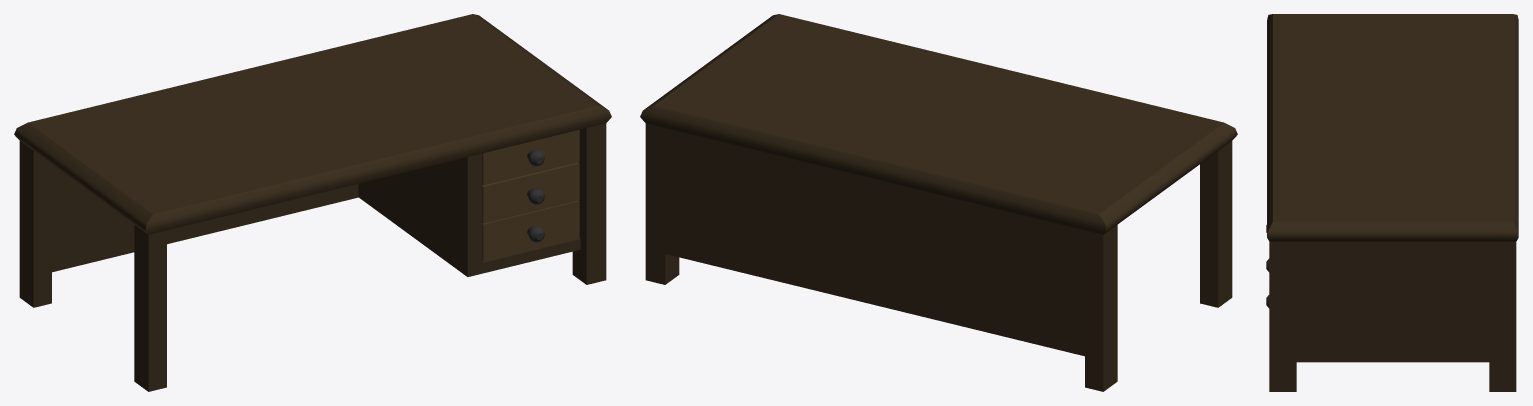
File: Office_Table.fbx
3 views of the same model, side by side, from view 1: azimuth 30°, elevation 25°; view 2: azimuth 150°, elevation 25°; view 3: azimuth 270°, elevation 25° (orthographic). The views are drawn at different scales.
Parts seen in each view (by area): view 1: Escritorio, Cajon_02, Cajon_03, Cajon_01; view 2: Escritorio; view 3: Escritorio.
Boxes of the visible parts, x1,y1,x2,y2 form: Escritorio: (14,14,611,391); Cajon_02: (482,162,579,223); Cajon_03: (482,200,579,261); Cajon_01: (482,130,579,185); Escritorio: (640,14,1237,391); Escritorio: (1267,14,1518,391).
Bounding box in the file's own units: 102 × 36.65 × 50.12.
